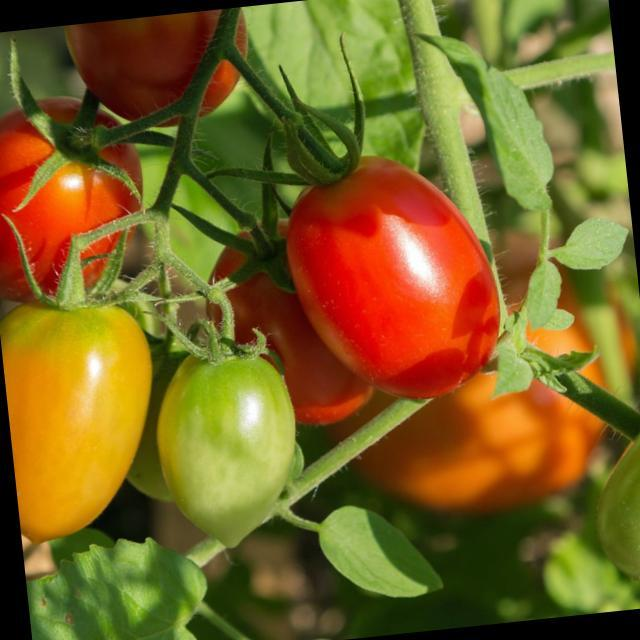TOMATO: (370, 183, 640, 520), (280, 118, 509, 410), (0, 290, 162, 541), (200, 206, 367, 432), (153, 341, 308, 554), (0, 87, 152, 304)
